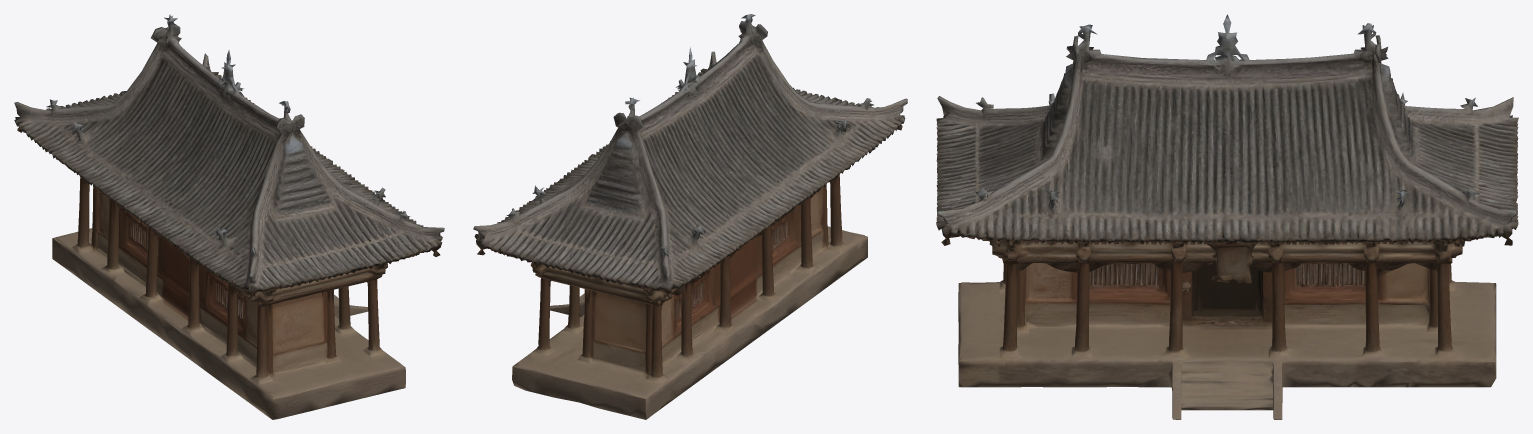
The model's file is building-dayunyuan.glb.
The picture shows the model from 3 angles, left to right: view 1: azimuth 30°, elevation 25°; view 2: azimuth 150°, elevation 25°; view 3: azimuth 270°, elevation 25°; orthographic projection. The views are drawn at different scales.
Parts seen in each view (by area): view 1: node_06a1b5b9-8cc4-405f-8e98-70e6078cc18d; view 2: node_06a1b5b9-8cc4-405f-8e98-70e6078cc18d; view 3: node_06a1b5b9-8cc4-405f-8e98-70e6078cc18d.
Boxes of the visible parts, x1=… form: node_06a1b5b9-8cc4-405f-8e98-70e6078cc18d: x1=14, y1=14, x2=444, y2=419; node_06a1b5b9-8cc4-405f-8e98-70e6078cc18d: x1=473, y1=14, x2=907, y2=419; node_06a1b5b9-8cc4-405f-8e98-70e6078cc18d: x1=936, y1=14, x2=1518, y2=419.
Size of the model in its own units: 0.5392 by 0.6328 by 1.
Materials: 1 (1 with a texture image).
